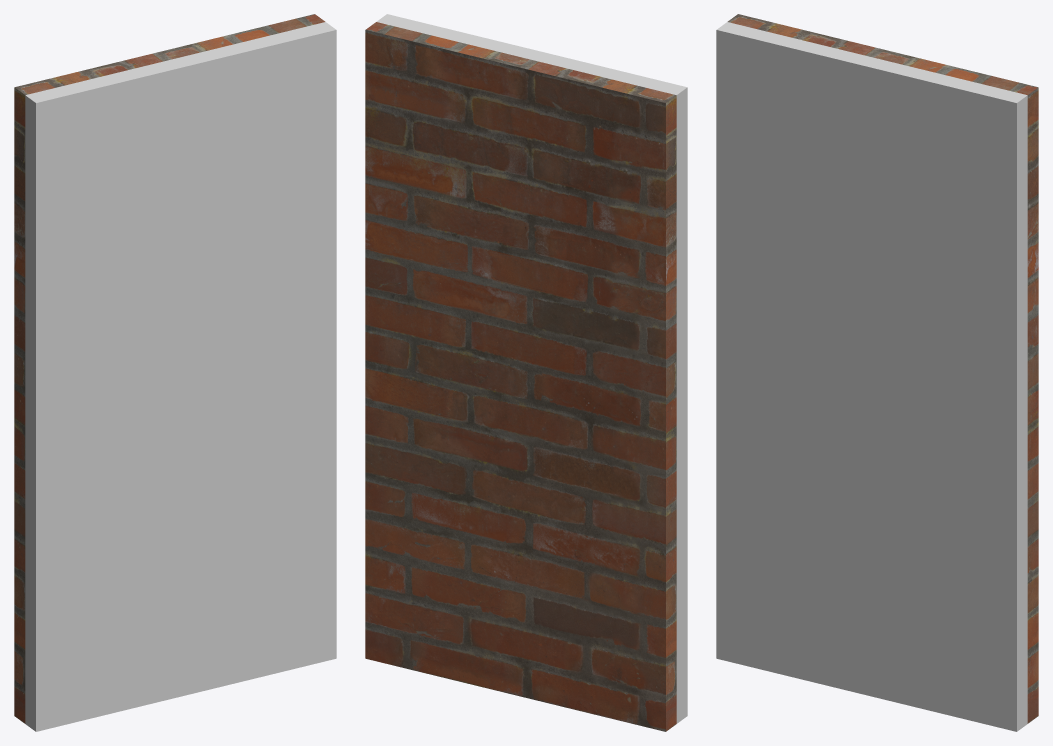
Rendered from Wall_Complete.fbx.
3 renders of one model, left to right at view 1: azimuth 30°, elevation 25°; view 2: azimuth 150°, elevation 25°; view 3: azimuth 330°, elevation 25°, orthographic.
Parts seen in each view (by area): view 1: Wall; view 2: Wall; view 3: Wall.
Part boxes in pixels (x1,y1,x2,y2): Wall: (14, 14, 336, 731); Wall: (365, 14, 687, 731); Wall: (716, 14, 1038, 731).
Bounding box in the file's own units: 400 × 800 × 50.
